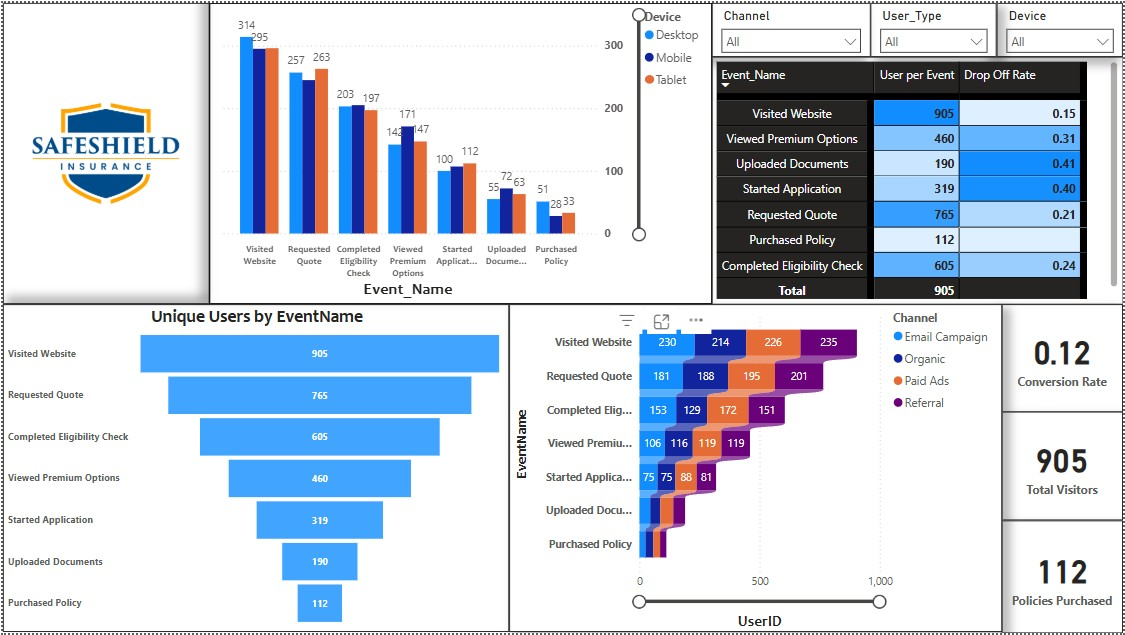

The dashboard page shown, as its layout file describes it:
{"tool":"powerbi","page":{"name":"Insurance Funnel Dashboard","canvas":[1280,720],"ordinal":0},"visuals":[{"type":"funnel","title":"Unique Users by EventName","fields":{"Category":["insurance_funnel_dataset.Event_Name"],"Y":["insurance_funnel_dataset.Unique Users"]},"box":[0,344.3,578.6,374.3],"z":0},{"type":"pivotTable","fields":{"Rows":["insurance_funnel_dataset.Event_Name"],"Values":["insurance_funnel_dataset.User per Event","insurance_funnel_dataset.Drop Off Rate"]},"box":[810,61.4,470,282.9],"z":1000},{"type":"card","fields":{"Values":["insurance_funnel_dataset.Conversion Rate"]},"box":[1141.4,344.3,138.6,122.9],"z":2000},{"type":"card","fields":{"Values":["insurance_funnel_dataset.Total Visitors"]},"box":[1141.4,467.1,138.6,124.3],"z":3000},{"type":"card","fields":{"Values":["insurance_funnel_dataset.Policies Purchased"]},"box":[1141.4,591.4,138.6,128.6],"z":4000},{"type":"slicer","fields":{"Values":["insurance_funnel_dataset.Device"]},"box":[1135.7,0,144.3,61.4],"z":5000},{"type":"slicer","fields":{"Values":["insurance_funnel_dataset.User_Type"]},"box":[991.4,0,144.3,61.4],"z":6000},{"type":"slicer","fields":{"Values":["insurance_funnel_dataset.Channel"]},"box":[810,0,181.4,61.4],"z":7000},{"type":"barChart","fields":{"Category":["insurance_funnel_dataset.Event_Name"],"Y":["Count(insurance_funnel_dataset.User_ID)"],"Series":["insurance_funnel_dataset.Channel"]},"box":[578.6,344.3,562.9,374.3],"z":8000},{"type":"clusteredColumnChart","fields":{"Category":["insurance_funnel_dataset.Event_Name"],"Y":["Count(insurance_funnel_dataset.User_ID)"],"Series":["insurance_funnel_dataset.Device"]},"box":[235.7,0,574.3,344.3],"z":9000},{"type":"image","box":[0,0,236,344],"z":10000}]}

Visuals, with their boxes in screenshot pixels (x1, y1, x2, y2), scaled from the page's 1280x720 canvas onto the 1125x635 screenshot:
"Unique Users by EventName" funnel: [0,304,509,634]
pivotTable - insurance_funnel_dataset.Event_Name x insurance_funnel_dataset.User per Event: [712,54,1124,304]
card - insurance_funnel_dataset.Conversion Rate: [1003,304,1124,412]
card - insurance_funnel_dataset.Total Visitors: [1003,412,1124,522]
card - insurance_funnel_dataset.Policies Purchased: [1003,522,1124,634]
slicer - insurance_funnel_dataset.Device: [998,0,1124,54]
slicer - insurance_funnel_dataset.User_Type: [871,0,998,54]
slicer - insurance_funnel_dataset.Channel: [712,0,871,54]
barChart - insurance_funnel_dataset.Event_Name x Count(insurance_funnel_dataset.User_ID): [509,304,1003,634]
clusteredColumnChart - insurance_funnel_dataset.Event_Name x Count(insurance_funnel_dataset.User_ID): [207,0,712,304]
image: [0,0,207,303]
